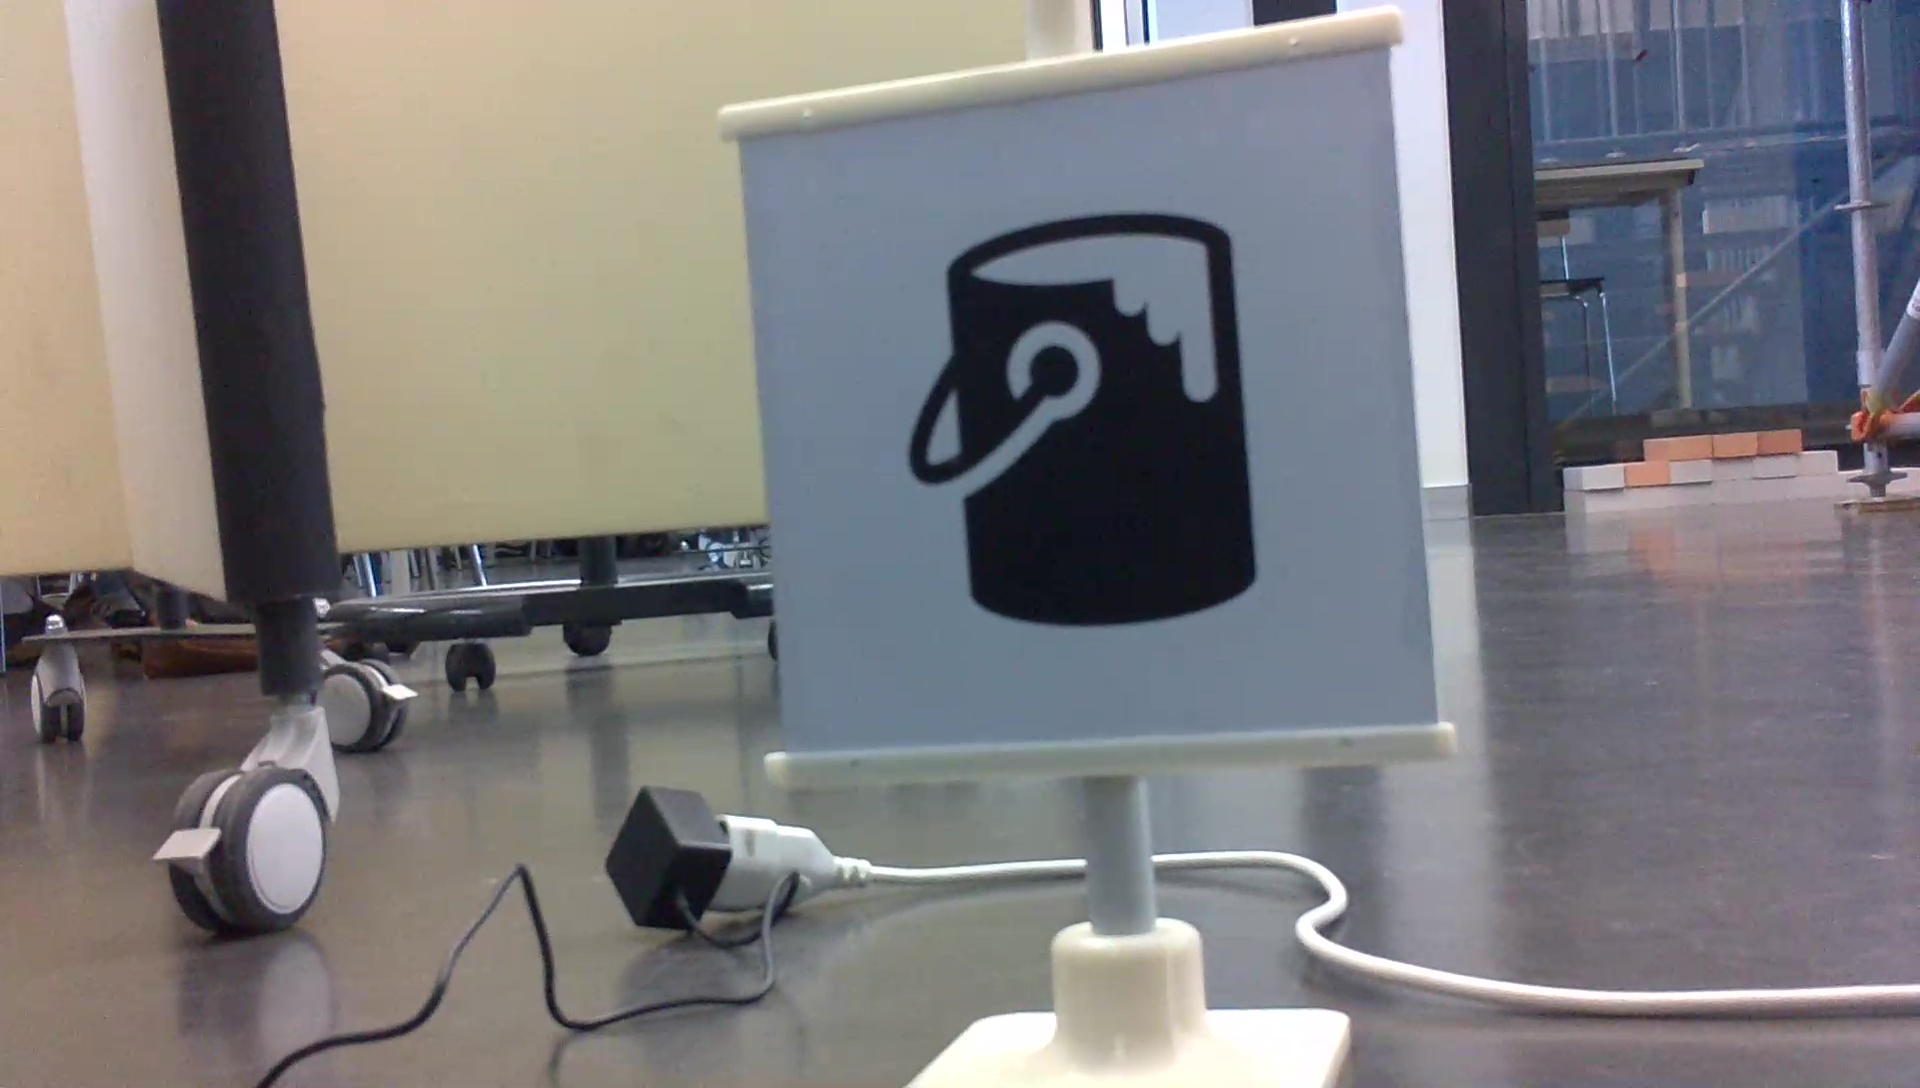bucket: (893, 200, 1267, 640)
